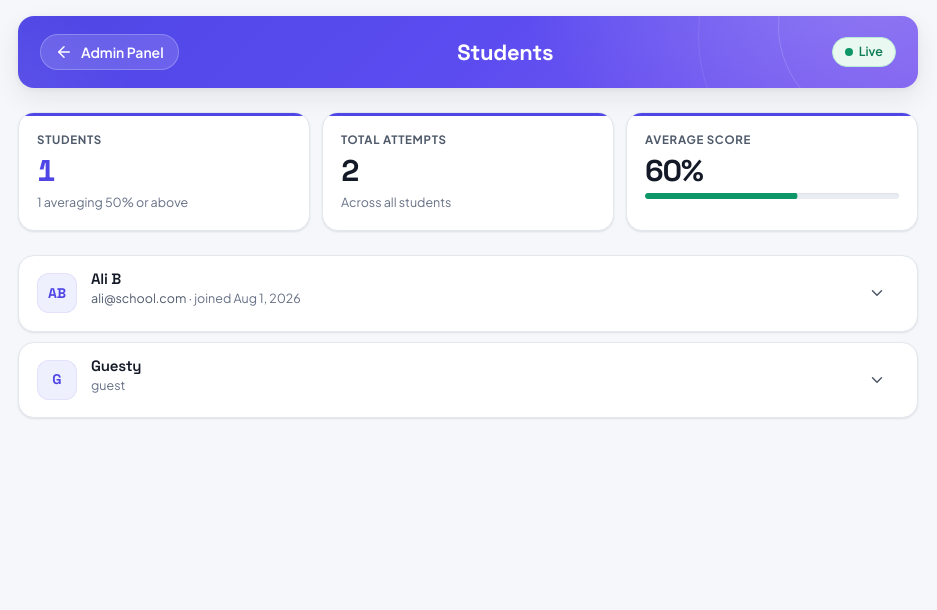
Test case: StudentsView › expands a student profile with their member id
What coordinates should you click on to do the following:
click the button "AB Ali B ali@school.com · joined Aug 1, 2026"
I would click on:
 (57, 293)
Its box is [19,256,917,331].
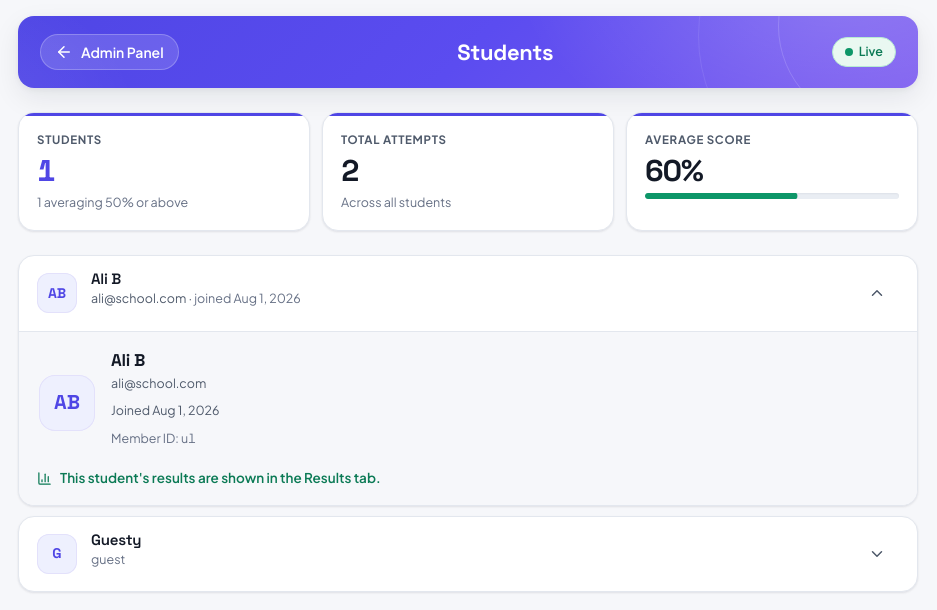
Expected: the text "Member ID: u1" is shown, [111,430,196,446]
